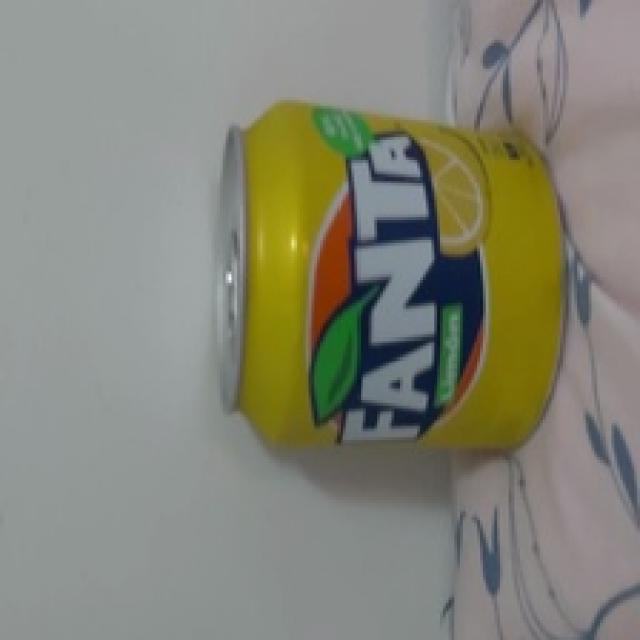recyclable: (208, 99, 575, 462)
